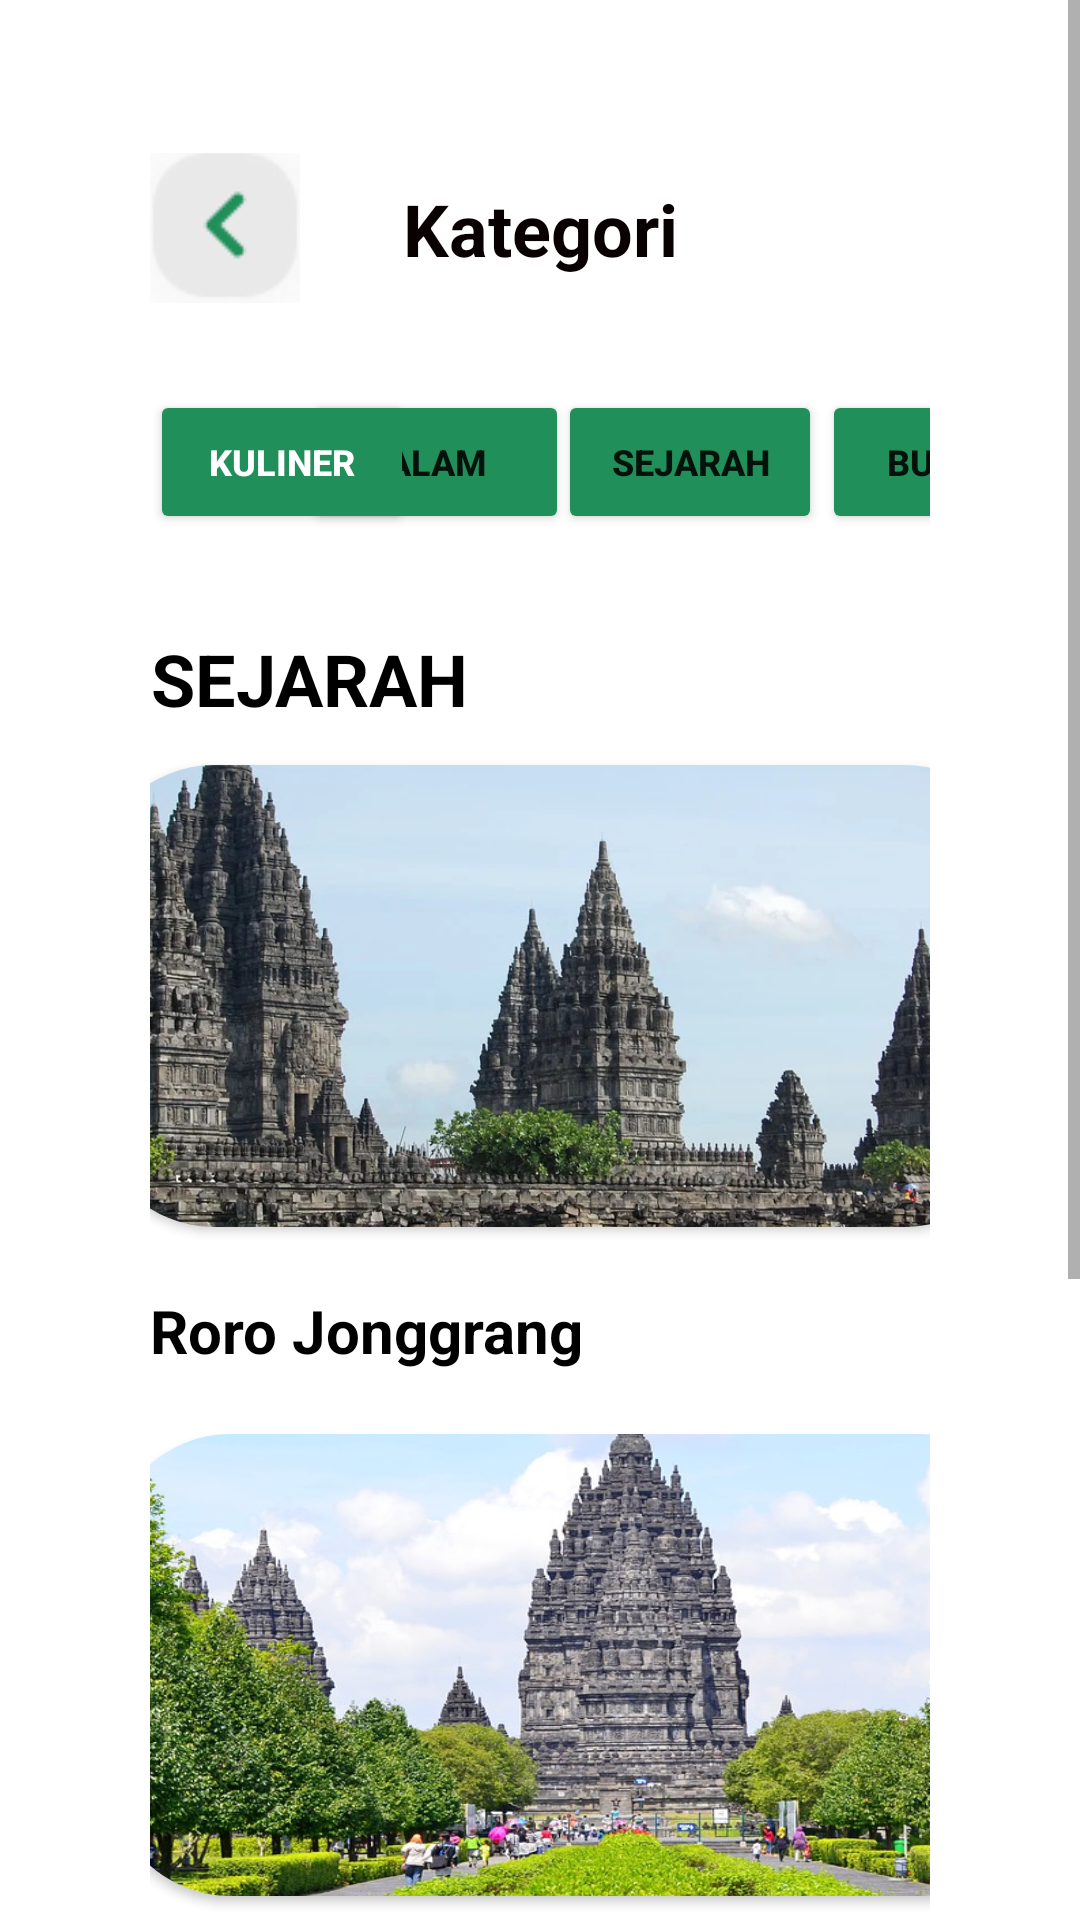

Named icons in this screenshot (1080x1920) and their bounding boxes, (x1, y1, x2, y2):
back: (153, 153, 297, 297)
